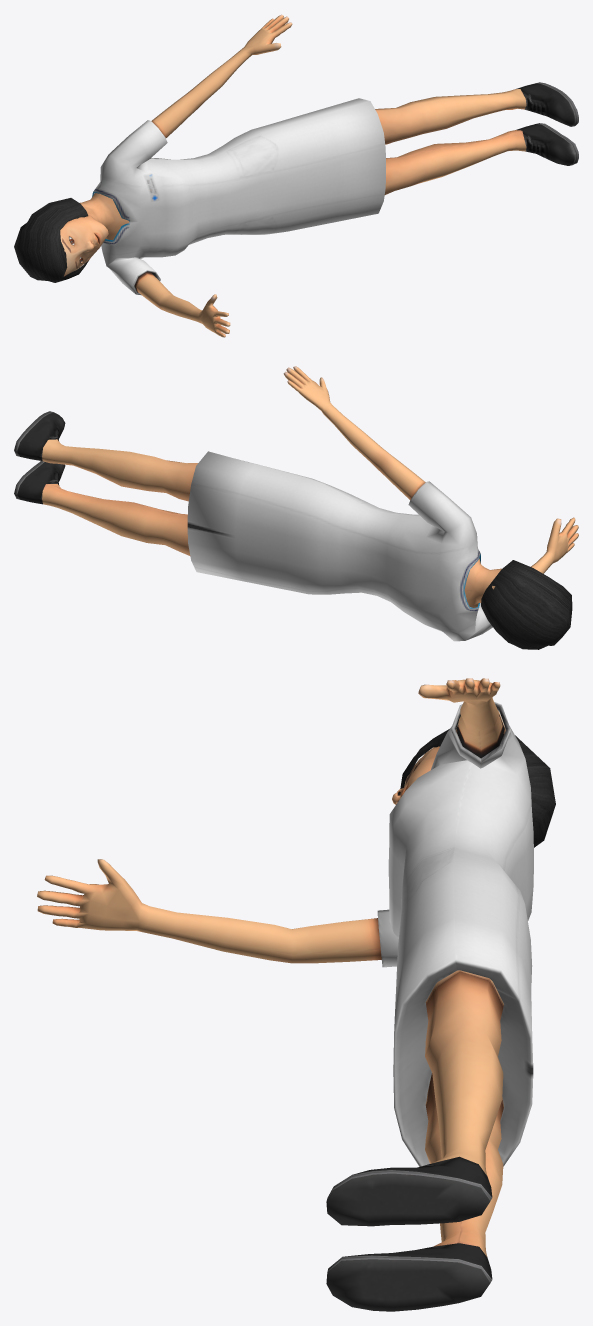
File: nurse_reaching.glb
3 renders of one model, top to bottom at view 1: azimuth 30°, elevation 25°; view 2: azimuth 150°, elevation 25°; view 3: azimuth 270°, elevation 25°, orthographic. The views are drawn at different scales.
Visible parts, largest first — view 1: world; view 2: world; view 3: world.
Part boxes in pixels (x1,y1,x2,y2): world: (14, 14, 578, 337); world: (14, 366, 578, 649); world: (37, 678, 555, 1311).
Size of the model in its own units: 1.61 by 0.6563 by 0.6906.
Materials: 1 (1 with a texture image).
